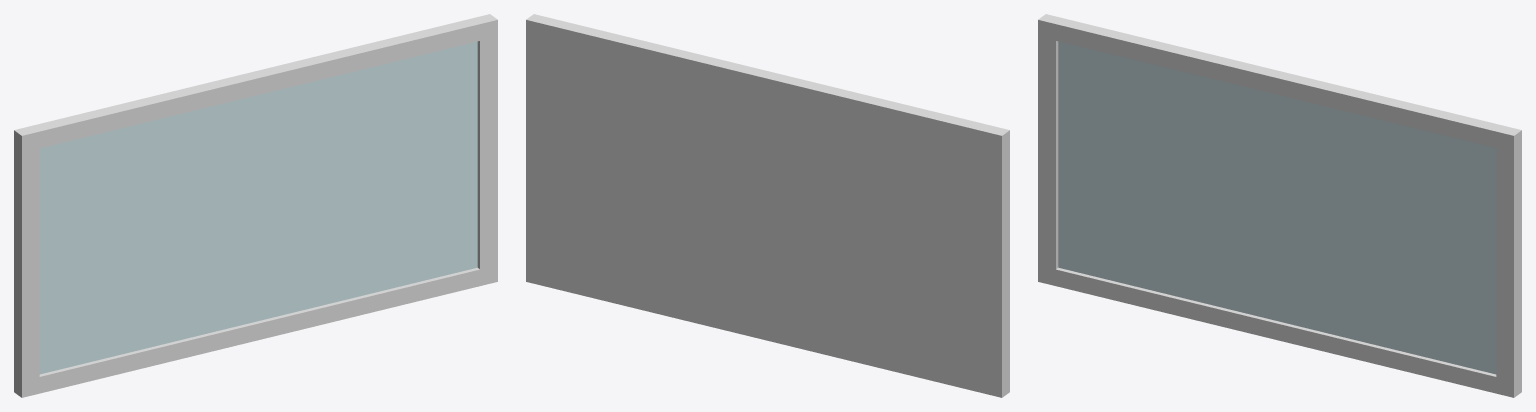
Rendered from Itr_Obj_Monitor_LCD_Screen_On_04.FBX.
3 views of the same model, side by side, from view 1: azimuth 30°, elevation 25°; view 2: azimuth 150°, elevation 25°; view 3: azimuth 330°, elevation 25° (orthographic).
Parts seen in each view (by area): view 1: Itr_Obj_Monitor_LCD_Screen_On_04; view 2: Itr_Obj_Monitor_LCD_Screen_On_04; view 3: Itr_Obj_Monitor_LCD_Screen_On_04.
Part boxes in pixels (left/top/right/bottom): Itr_Obj_Monitor_LCD_Screen_On_04: left=14, top=14, right=497, bottom=397; Itr_Obj_Monitor_LCD_Screen_On_04: left=526, top=14, right=1009, bottom=397; Itr_Obj_Monitor_LCD_Screen_On_04: left=1038, top=14, right=1521, bottom=397.
Size of the model in its own units: 66.79 by 35.13 by 1.92.
